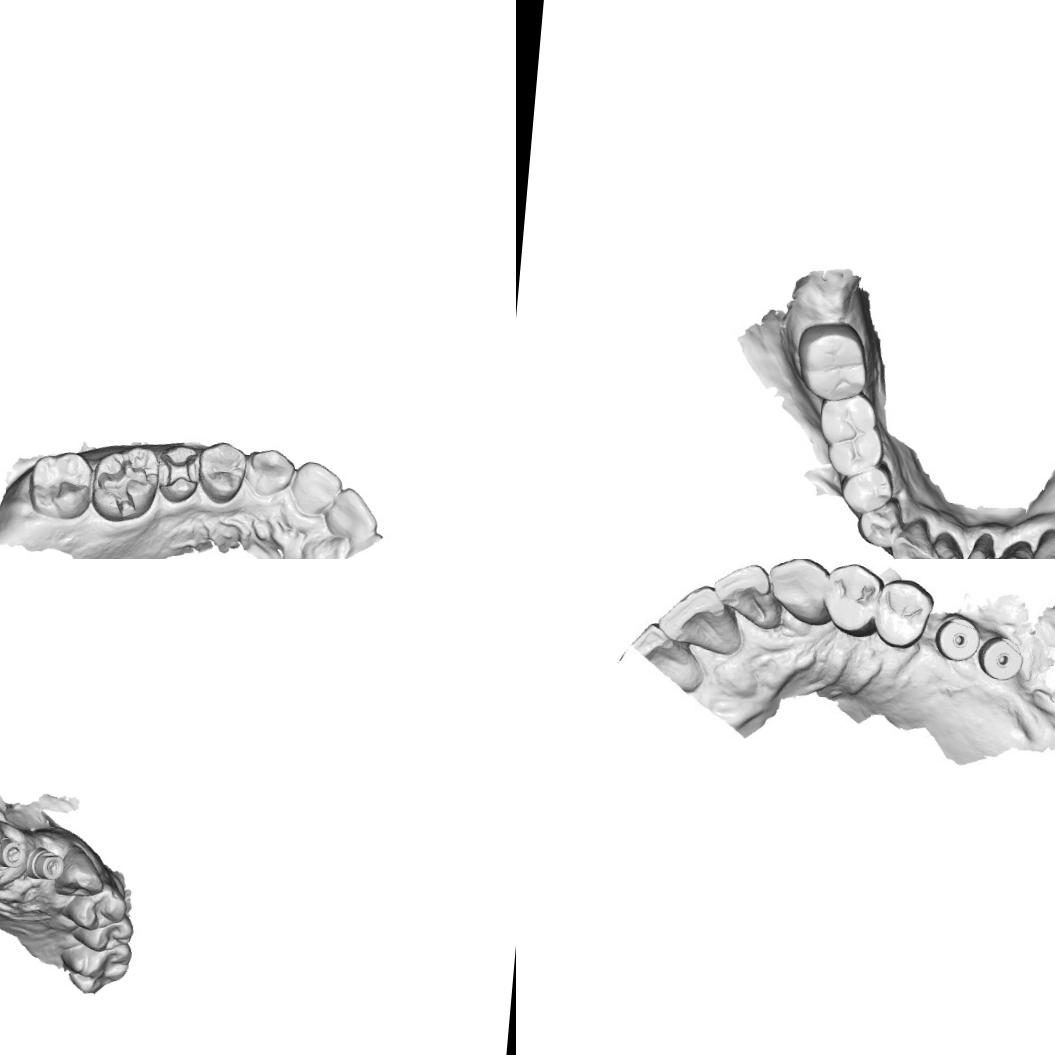canine: (768, 559, 834, 623), (50, 839, 109, 900), (241, 444, 296, 498), (889, 515, 935, 559), (1028, 524, 1055, 559)
implant: (935, 610, 982, 663), (980, 631, 1026, 681), (22, 841, 68, 883), (0, 832, 29, 872)
incisor: (660, 583, 752, 659), (716, 562, 784, 627), (320, 482, 382, 542), (288, 458, 346, 519), (927, 528, 965, 559), (960, 530, 999, 559), (998, 536, 1038, 559)
inlay: (92, 452, 152, 519), (154, 448, 200, 492)
molar: (785, 318, 873, 404), (812, 387, 890, 480), (24, 447, 101, 522), (56, 934, 134, 998)
premolar: (822, 561, 887, 641), (873, 578, 932, 655), (57, 876, 131, 934), (194, 437, 248, 506), (838, 458, 900, 518), (68, 905, 136, 956), (854, 496, 905, 550)
